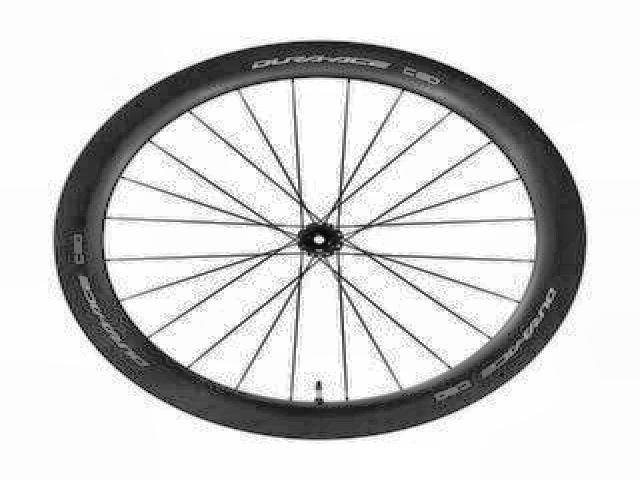wheel: (47, 32, 595, 446)
